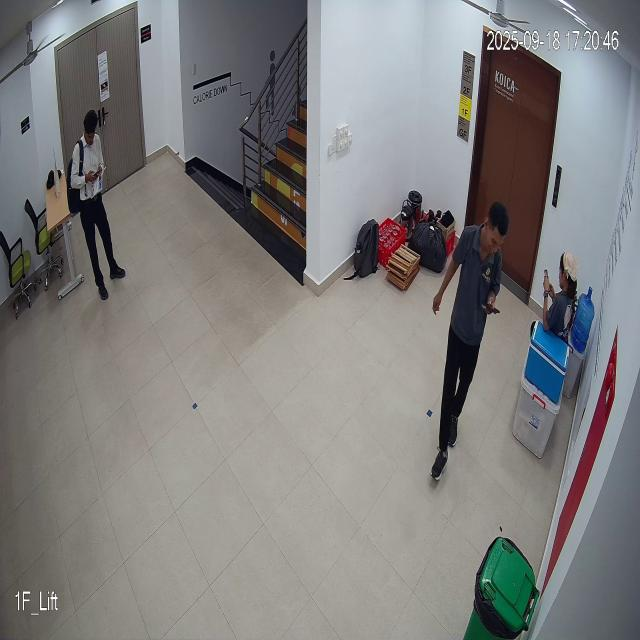face: (481, 199, 512, 262)
